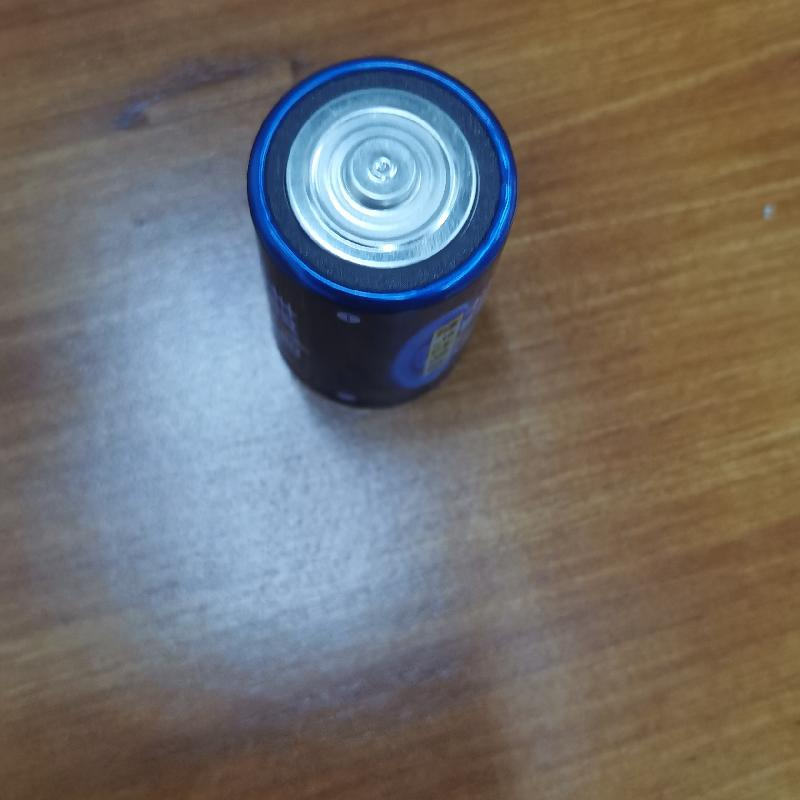battery: (242, 49, 519, 412)
